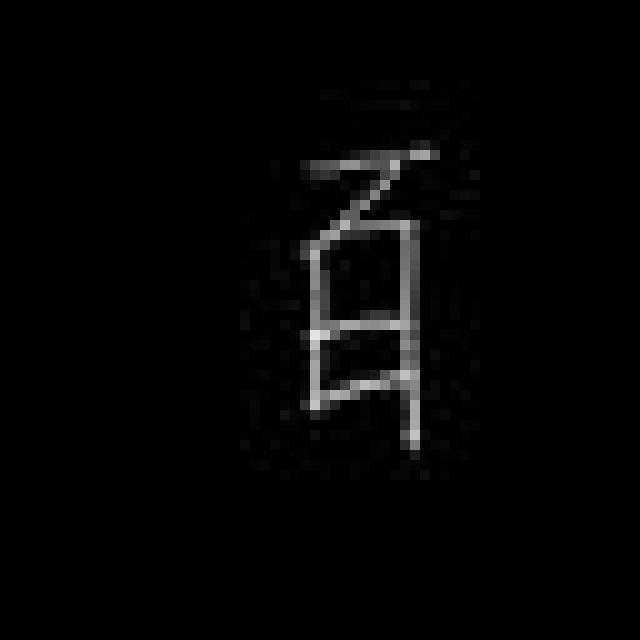100 -a hundred-: (288, 124, 443, 459)
